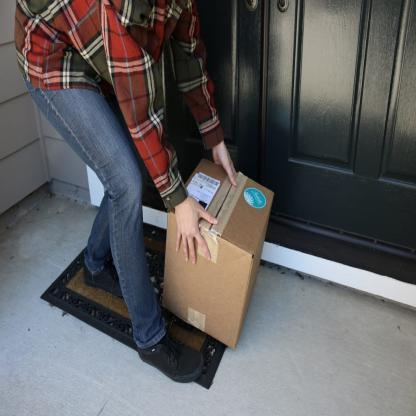package: (157, 156, 276, 351)
